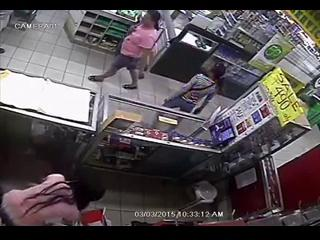Normal: (86, 10, 162, 90), (0, 170, 91, 226), (162, 63, 226, 115)
